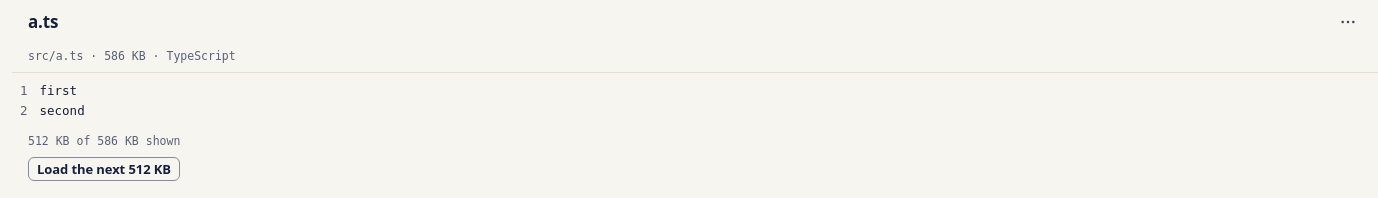
Scenario: code › pages a large file in 512 KB windows
Expected: the text "512 KB of 586 KB shown" is shown, [28,134,180,148]
Click the button "Load the next 512 KB" at (104, 169), box [28,157,180,181]
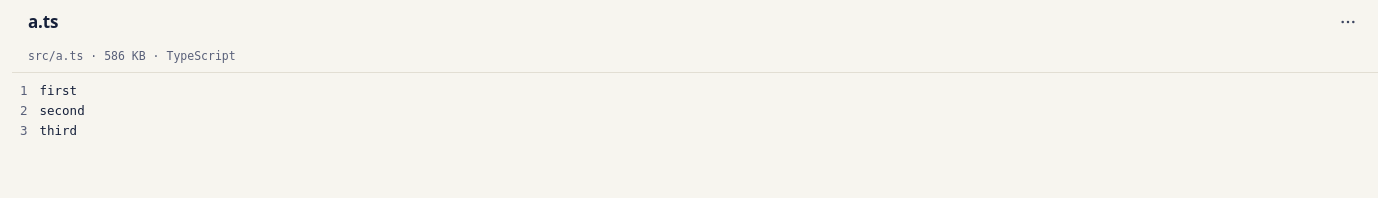
Now the button named "Line 3" is shown, box [12,121,40,141]
Now the button "Load the next" is gone
